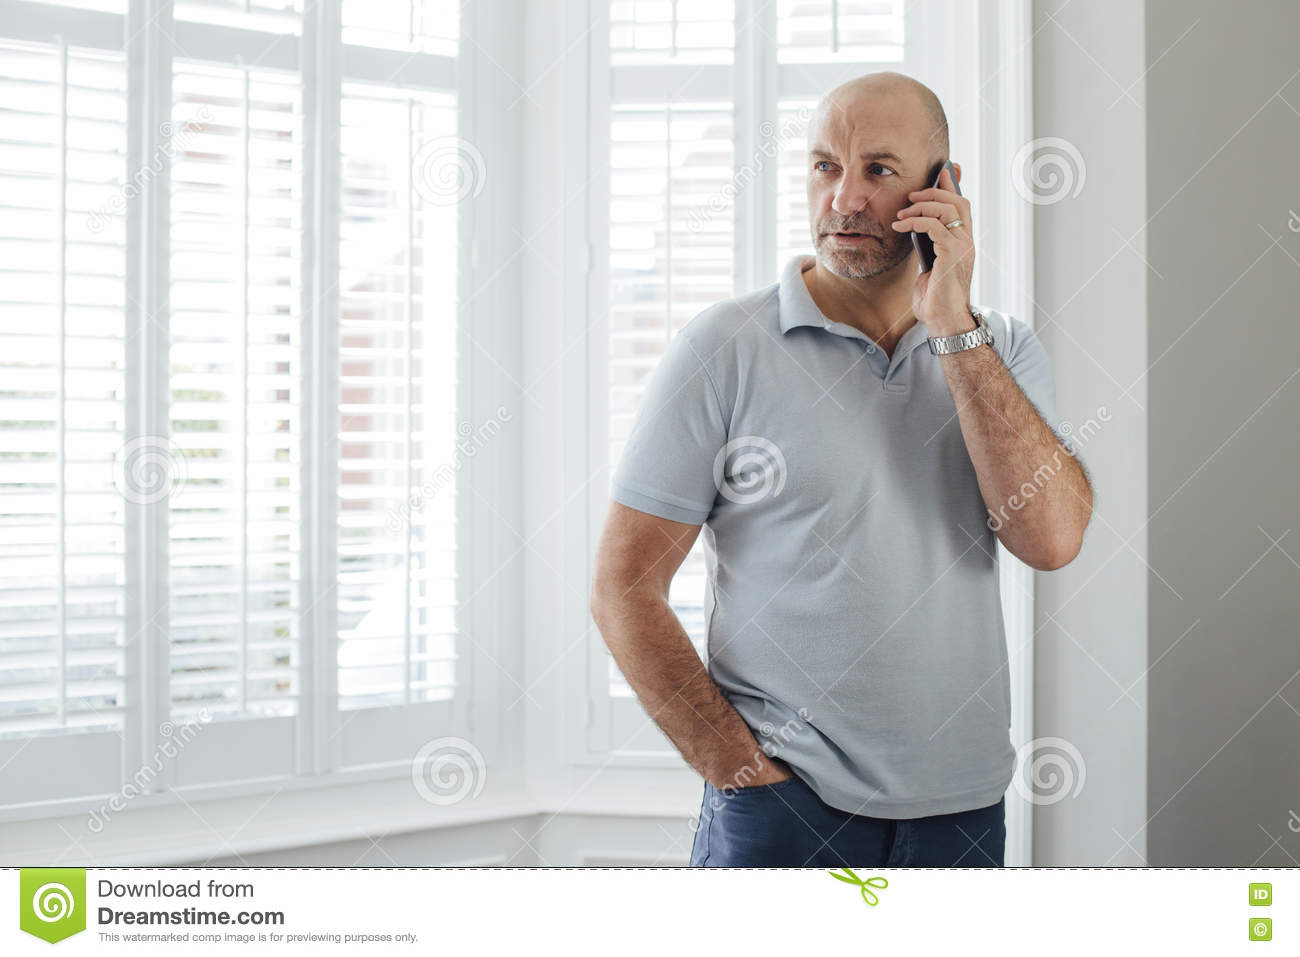phone: (911, 158, 965, 282)
talk: (807, 137, 977, 329)
